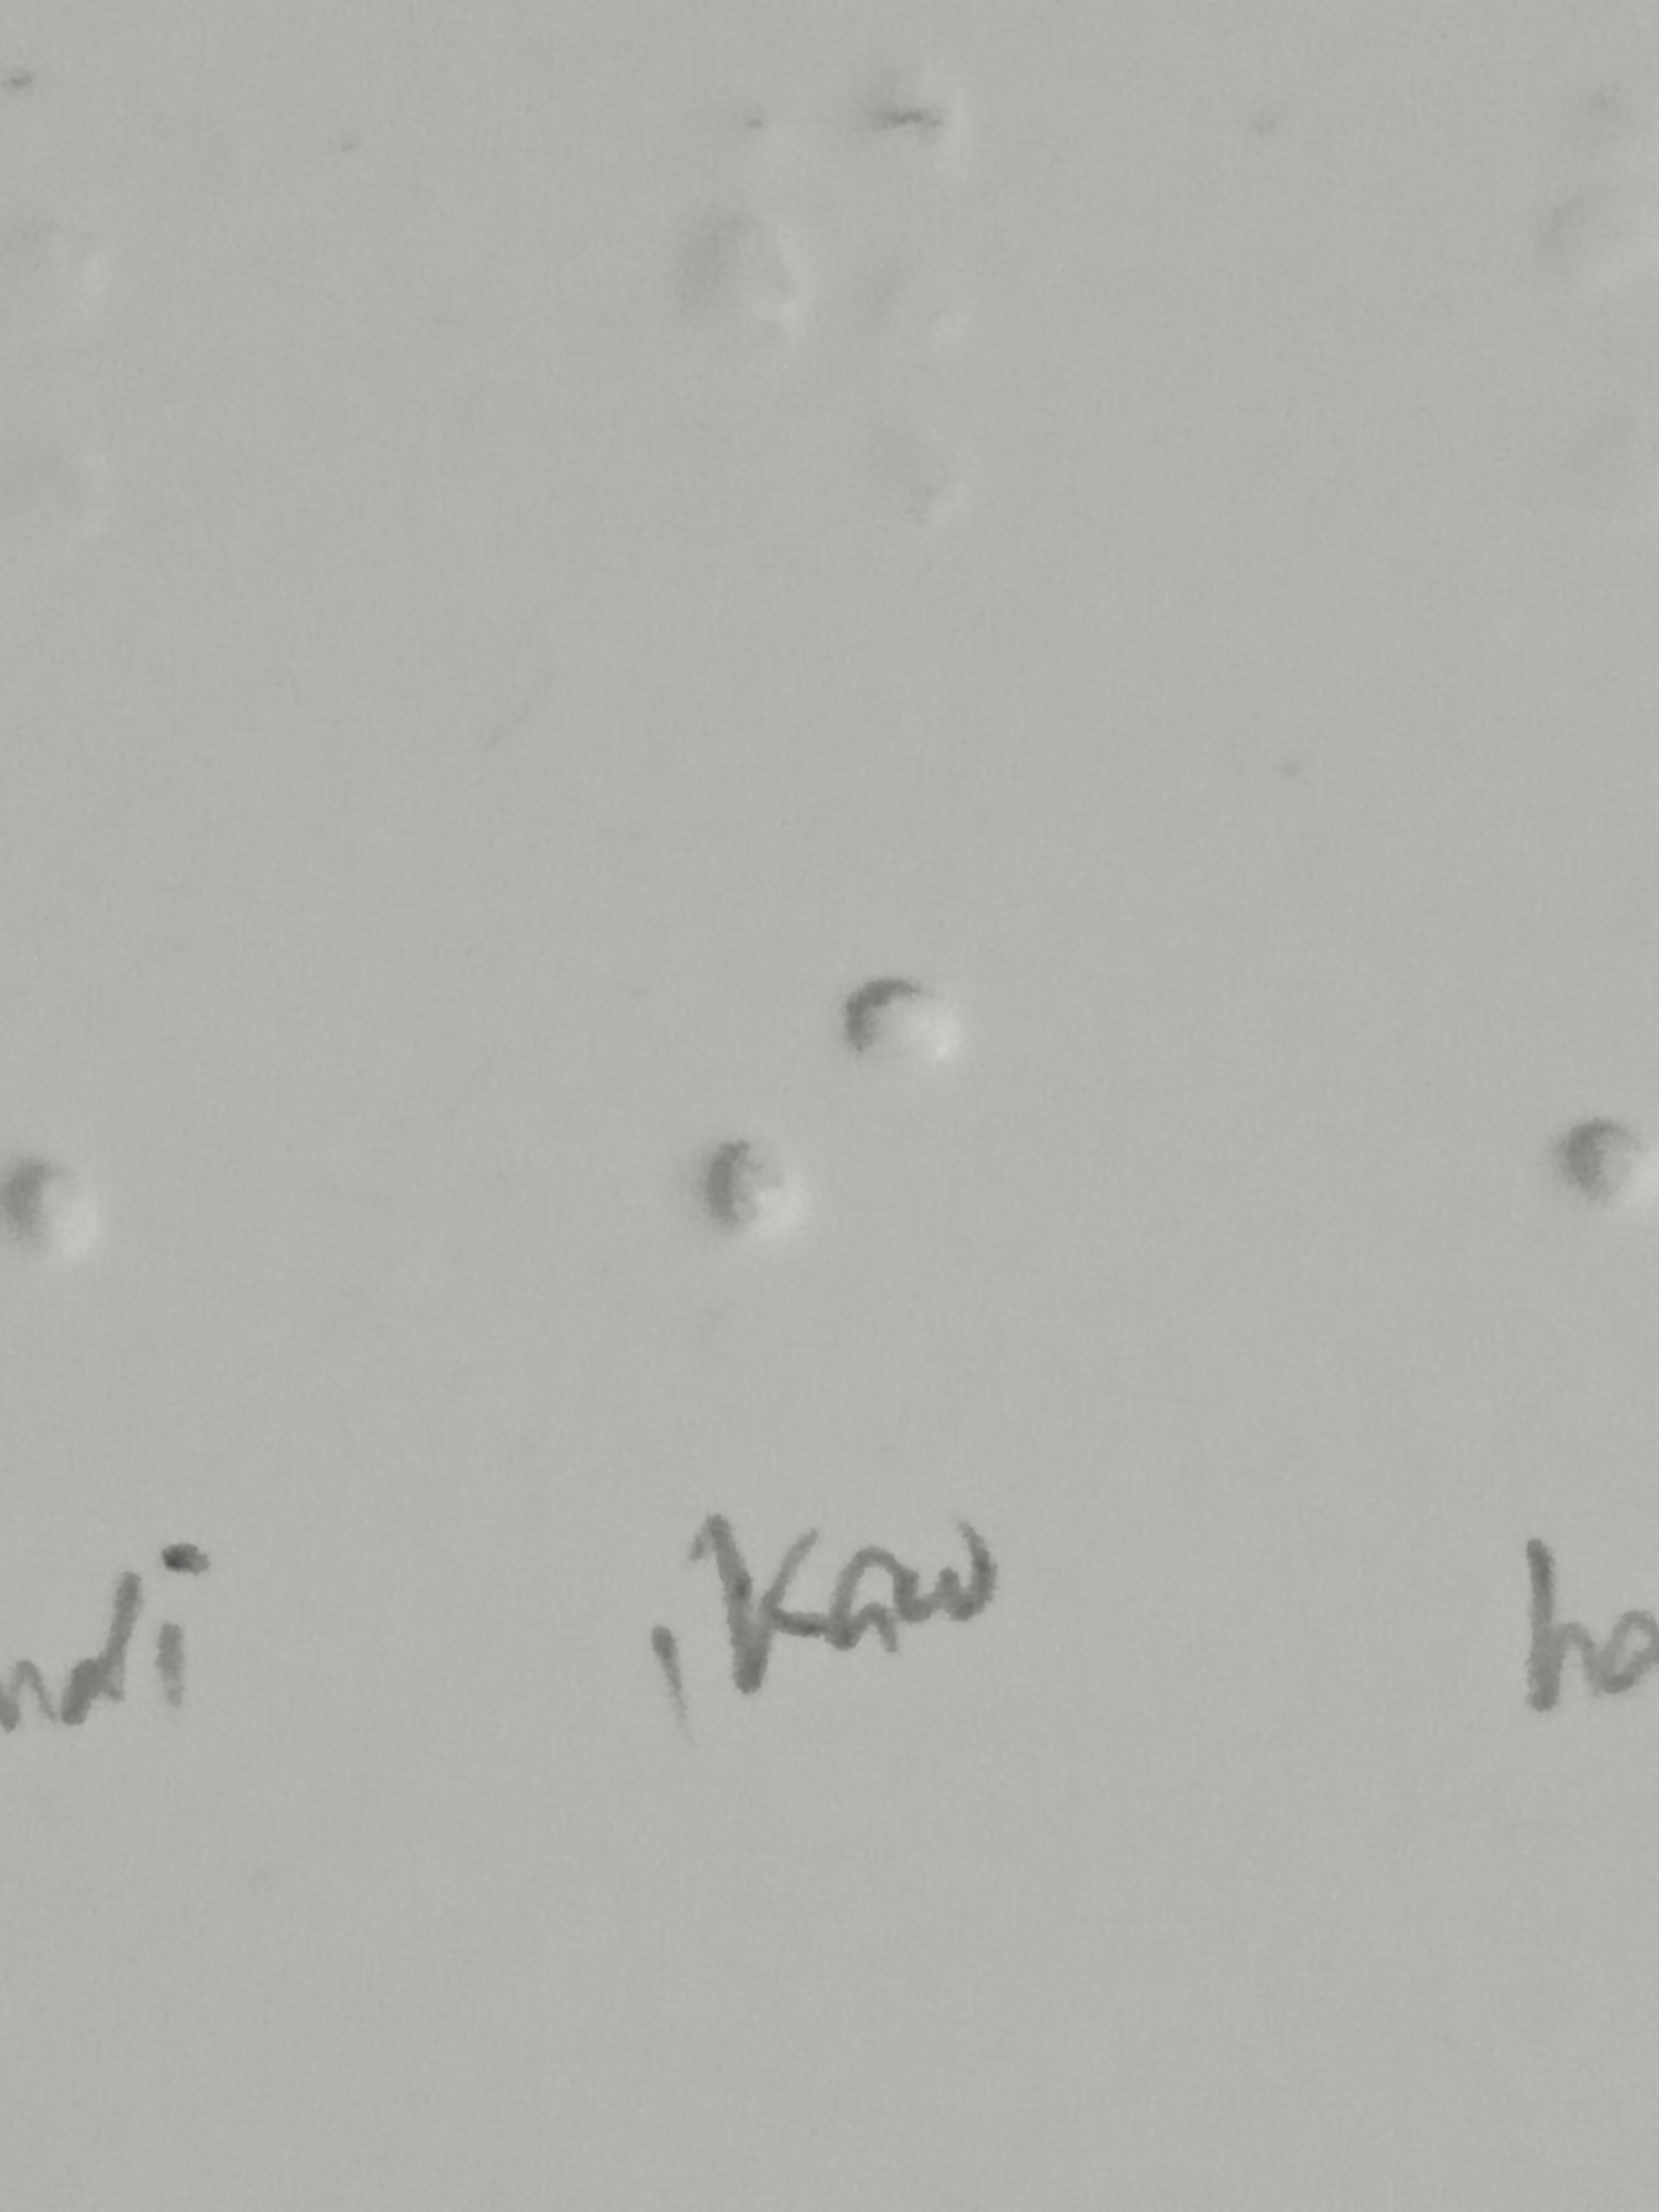one_cell_alphabet_ikaw: (687, 968, 957, 1414)
